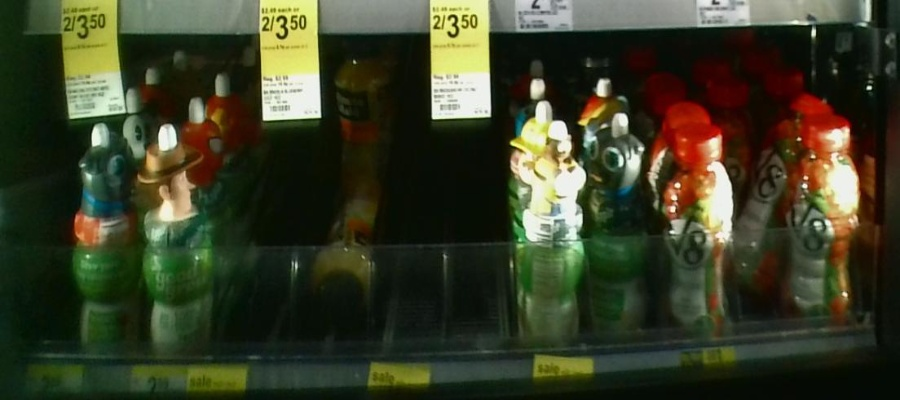bottle: (68, 123, 141, 358), (141, 126, 214, 356), (658, 121, 734, 337), (516, 117, 586, 340), (588, 115, 655, 342), (788, 111, 859, 323), (738, 122, 785, 300), (311, 214, 377, 331)
